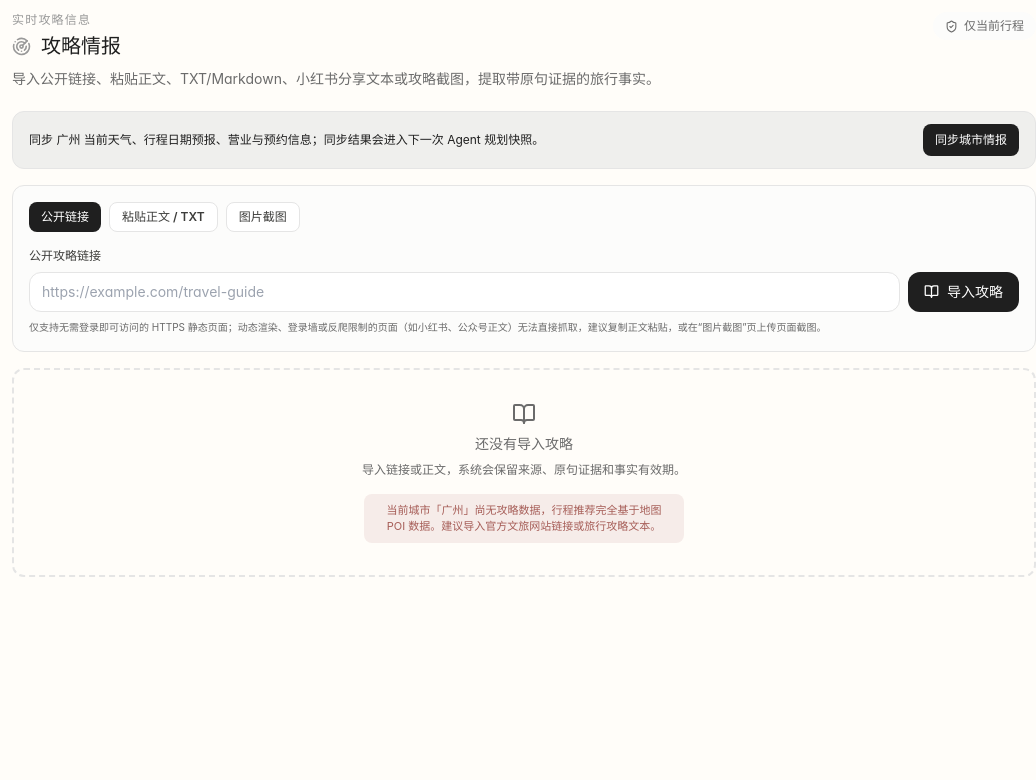
Scenario: GuideIntelligencePanel image import › offers url, text, and image import modes
Expected: the button "公开链接" is shown, x1=29 y1=202 x2=101 y2=232
Expected: the button "粘贴正文 / TXT" is shown, x1=109 y1=202 x2=218 y2=232
Click the button "图片截图" at (263, 217), box x1=226 y1=202 x2=300 y2=232
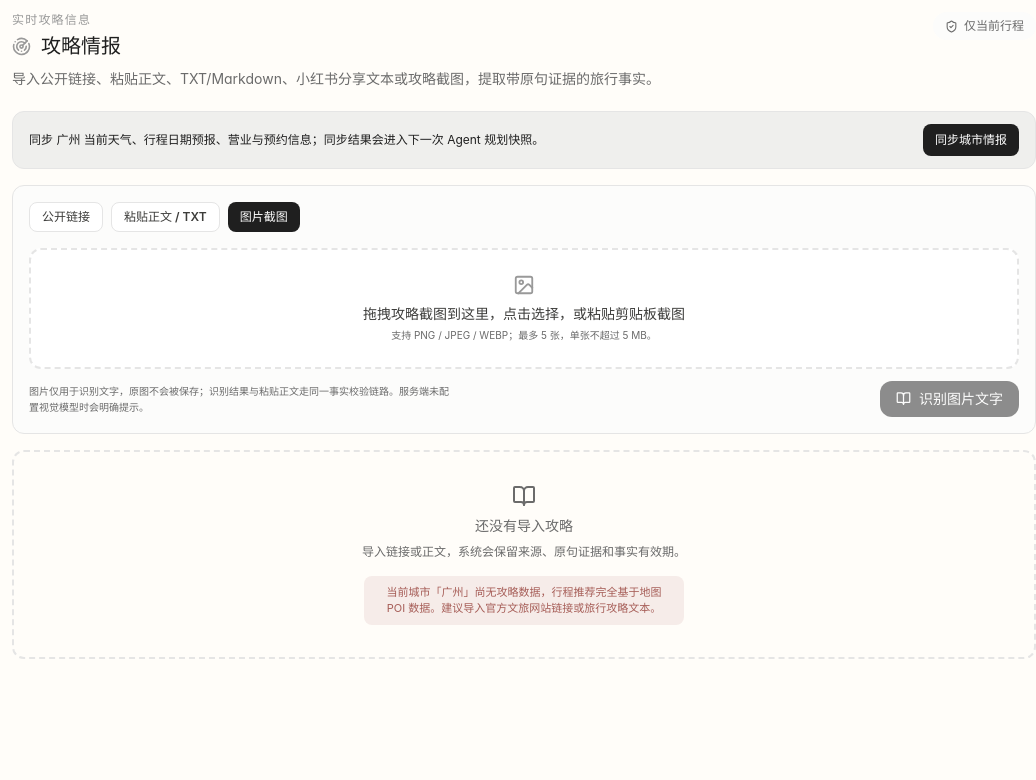
Expected: the button with aria-label "添加攻略截图" is shown, x1=29 y1=248 x2=1019 y2=369
